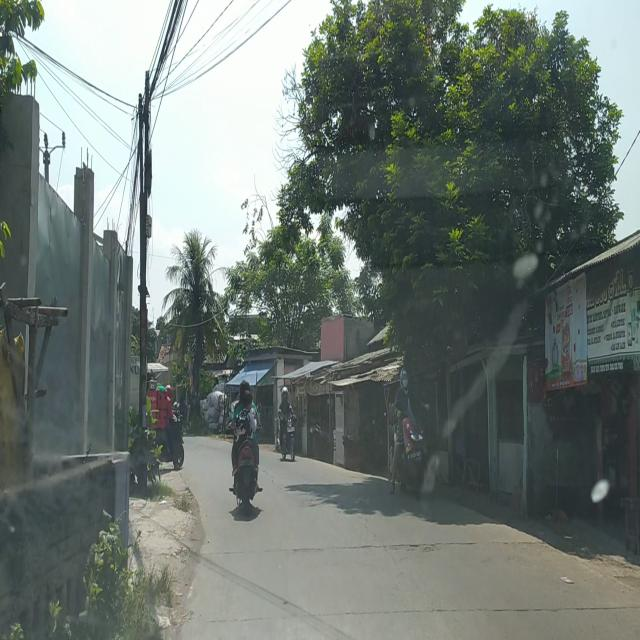Sewer Cover: (322, 600, 640, 618), (286, 539, 542, 554)
